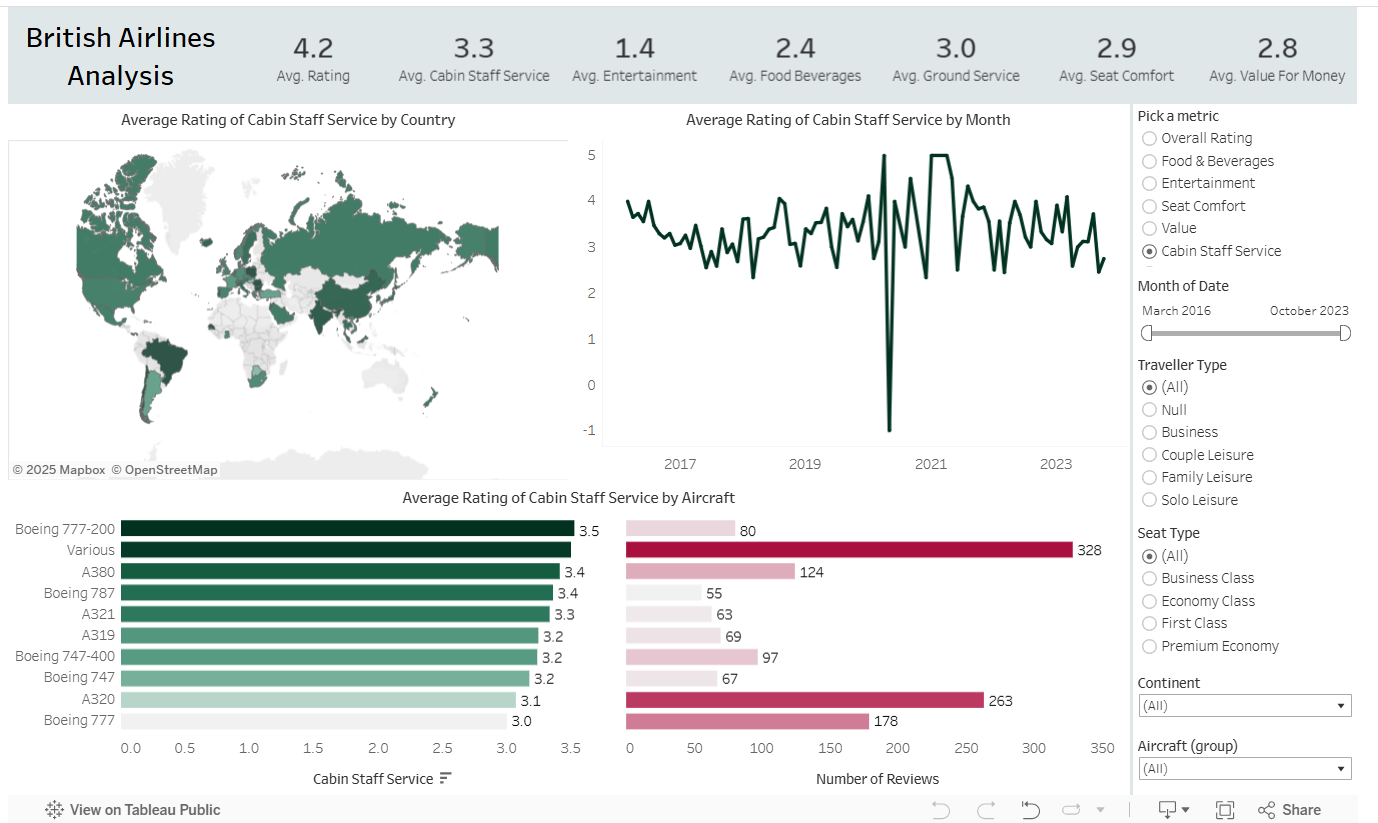

The page's visual inventory and layout, read from the dashboard file:
{"tool":"tableau","page":{"name":"Dashboard 1","canvas":[1200,800],"ordinal":0},"visuals":[{"type":"text","box":[0,0,200,96]},{"type":"worksheet","title":"Summary","mark":"Automatic","box":[200,0,1000,96]},{"type":"worksheet","title":"Map","mark":"Automatic","box":[0,96,499,384]},{"type":"worksheet","title":"Month","mark":"Automatic","rows":["Calculation_976718197630054400"],"cols":["date"],"box":[498,96,498,384]},{"type":"parameter","param":"[Parameters].[Parameter 1]","box":[1000,96,200,162.3]},{"type":"filter","title":"Map","param":"[federated.1rogv2l0evqg4z10dxnsd0qe1izl].[tmn:date:qk]","box":[1000,258.3,200,77]},{"type":"filter","title":"Map","param":"[federated.1rogv2l0evqg4z10dxnsd0qe1izl].[none:traveller_type:nk]","box":[1000,335.3,200,162.3]},{"type":"worksheet","title":"Aircraft","mark":"Automatic","cols":["Calculation_976718197630054400","ba!reviews_3B5DAF7A96E6468FB385C660674D14FF"],"box":[0,480,996.8,320]},{"type":"filter","title":"Map","param":"[federated.1rogv2l0evqg4z10dxnsd0qe1izl].[none:seat_type:nk]","box":[1000,497.7,200,162.3]},{"type":"filter","title":"Map","param":"[federated.1rogv2l0evqg4z10dxnsd0qe1izl].[none:Continent:nk]","box":[1000,660,200,70]},{"type":"filter","title":"Map","param":"[federated.1rogv2l0evqg4z10dxnsd0qe1izl].[Aircraft (group)]","box":[1000,730,200,70]}]}

Visuals, with their boxes on the page's 1200x800 design canvas (x1, y1, x2, y2). These are canvas units, not pixel positions in the 1378x823 screenshot, which may show the page scaled, cropped or inside an application window:
text: detection(0, 0, 200, 96)
"Summary" worksheet: detection(200, 0, 1200, 96)
"Map" worksheet: detection(0, 96, 499, 480)
"Month" worksheet: detection(498, 96, 996, 480)
parameter: detection(1000, 96, 1200, 258)
"Map" filter: detection(1000, 258, 1200, 335)
"Map" filter: detection(1000, 335, 1200, 498)
"Aircraft" worksheet: detection(0, 480, 997, 800)
"Map" filter: detection(1000, 498, 1200, 660)
"Map" filter: detection(1000, 660, 1200, 730)
"Map" filter: detection(1000, 730, 1200, 800)
